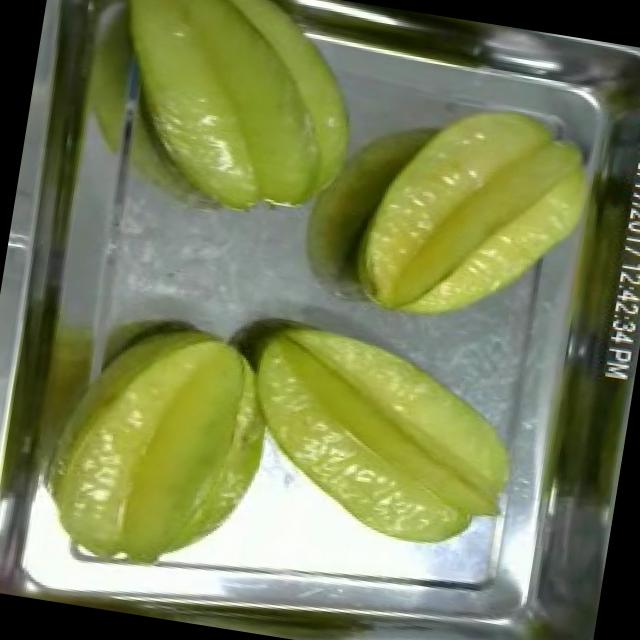fruit: (220, 304, 539, 568), (19, 299, 297, 595), (337, 76, 609, 356), (82, 0, 389, 244)
